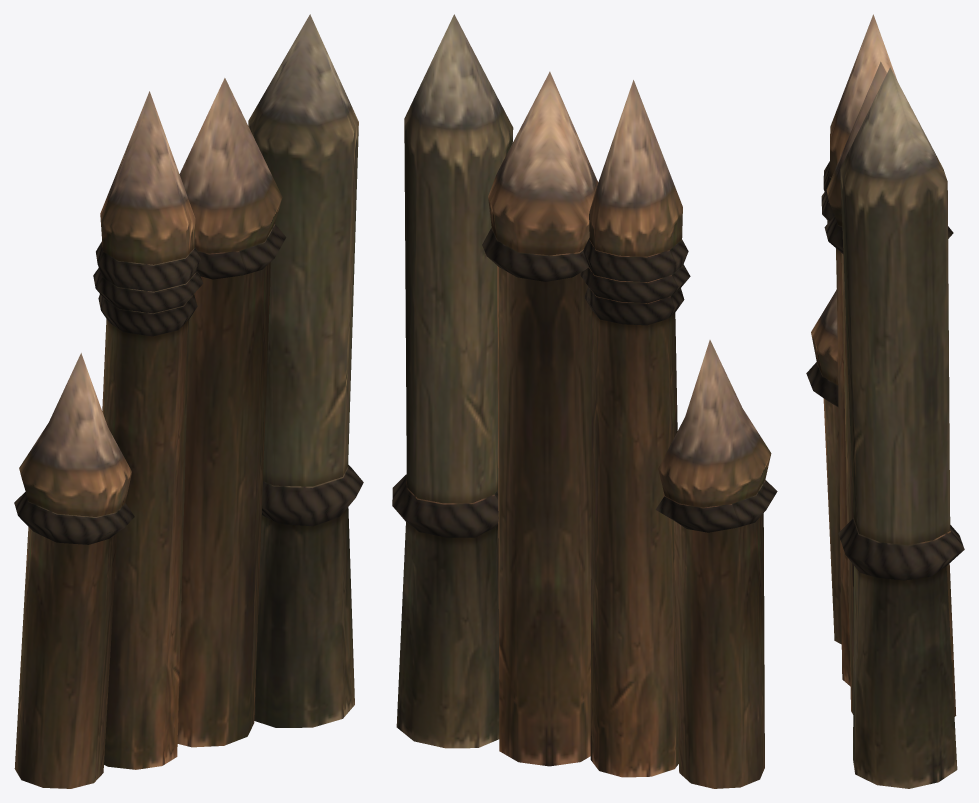
File: Anmaodao_juma.FBX
3 renders of one model, left to right at view 1: azimuth 30°, elevation 25°; view 2: azimuth 150°, elevation 25°; view 3: azimuth 270°, elevation 25°, orthographic.
Visible parts, largest first — view 1: Anmaodao_juma; view 2: Anmaodao_juma; view 3: Anmaodao_juma.
Boxes of the visible parts, <box> form: Anmaodao_juma: <box>14,14,363,788</box>; Anmaodao_juma: <box>392,14,777,788</box>; Anmaodao_juma: <box>806,14,964,788</box>.
Bounding box in the file's own units: 54.33 × 21.09 × 103.
